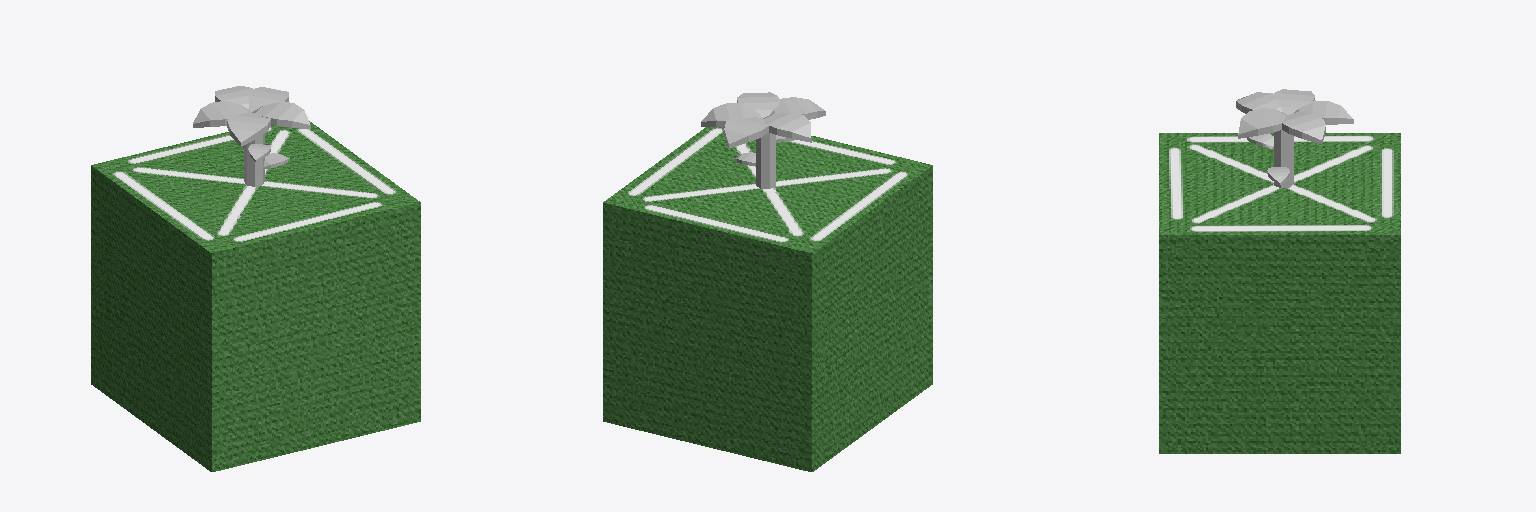
3 views of the same model, side by side, from view 1: azimuth 30°, elevation 25°; view 2: azimuth 150°, elevation 25°; view 3: azimuth 270°, elevation 25° (orthographic).
Parts seen in each view (by area): view 1: Box008.001; view 2: Box008.001; view 3: Box008.001.
Boxes of the visible parts, <box> form: Box008.001: <box>91,86,420,471</box>; Box008.001: <box>603,92,932,471</box>; Box008.001: <box>1159,89,1400,453</box>.
Size of the model in its own units: 0.254 by 0.3407 by 0.254.
Materials: 3 (1 with a texture image).